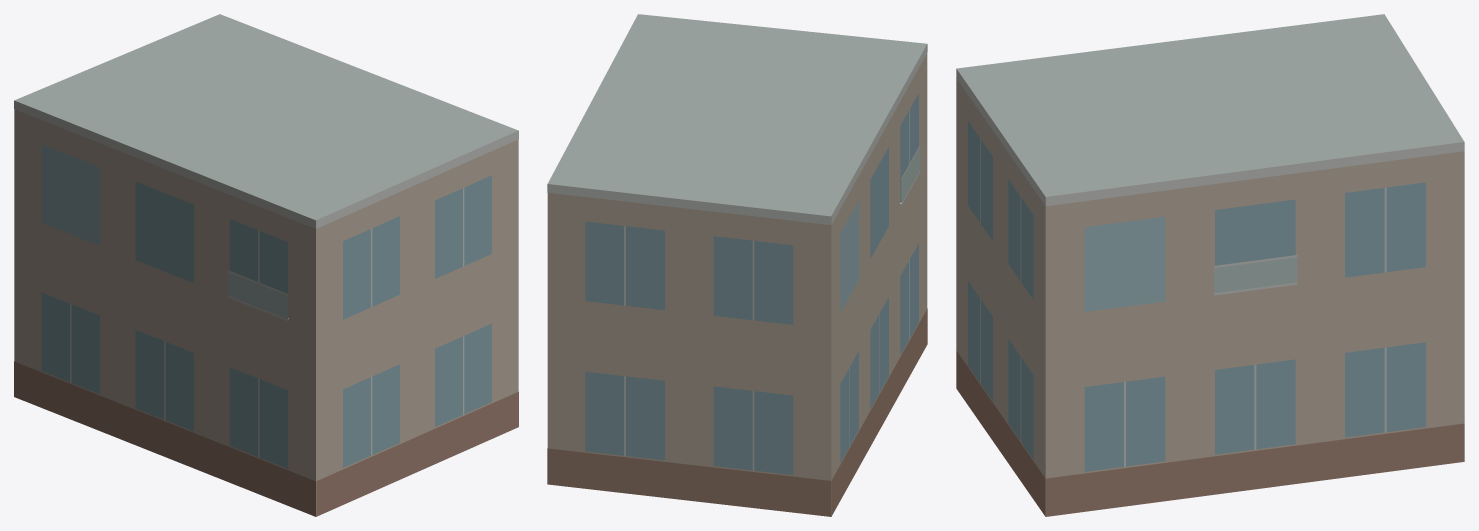
Rendered from survey-upis-32500702.glb.
3 renders of one model, left to right at view 1: azimuth 30°, elevation 25°; view 2: azimuth 150°, elevation 25°; view 3: azimuth 270°, elevation 25°, orthographic. The views are drawn at different scales.
Parts seen in each view (by area): view 1: survey-upis-32500702.tmp; view 2: survey-upis-32500702.tmp; view 3: survey-upis-32500702.tmp.
Part boxes in pixels (bbox=[...]): survey-upis-32500702.tmp: bbox=[14, 14, 518, 516]; survey-upis-32500702.tmp: bbox=[547, 14, 927, 516]; survey-upis-32500702.tmp: bbox=[956, 14, 1464, 516].
Bounding box in the file's own units: 10.32 × 8.4 × 12.11.
